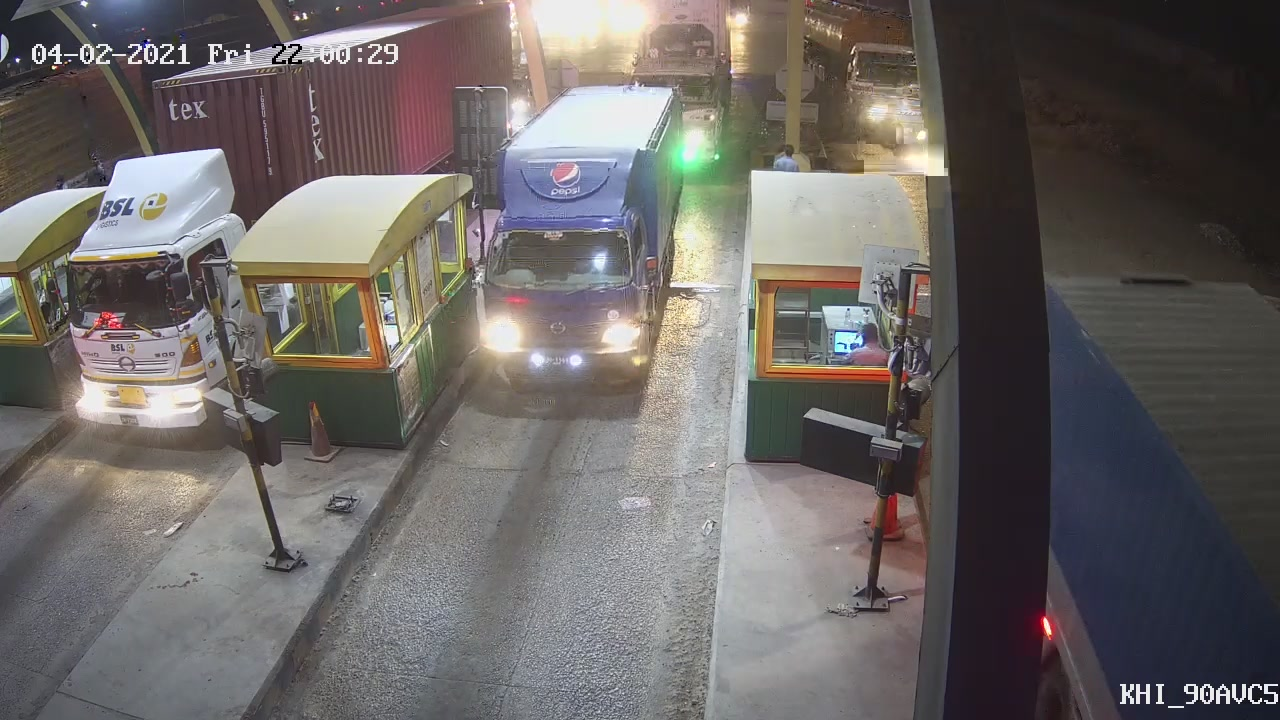F6: (460, 114, 677, 397)
